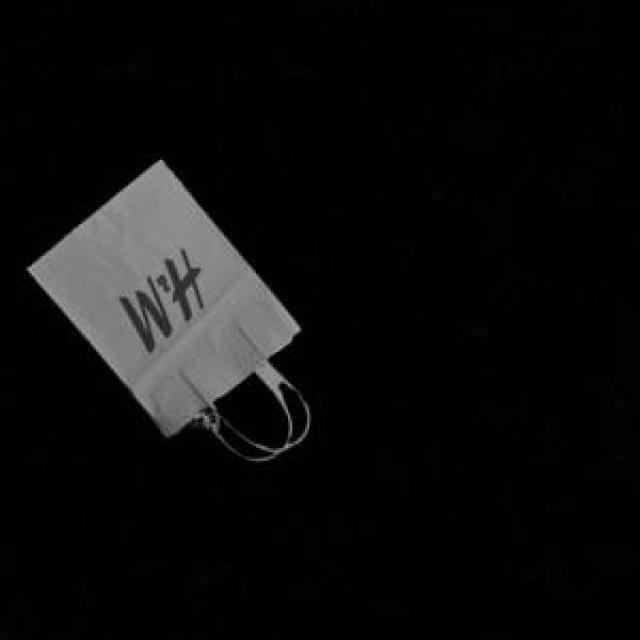paper: (24, 156, 297, 433)
